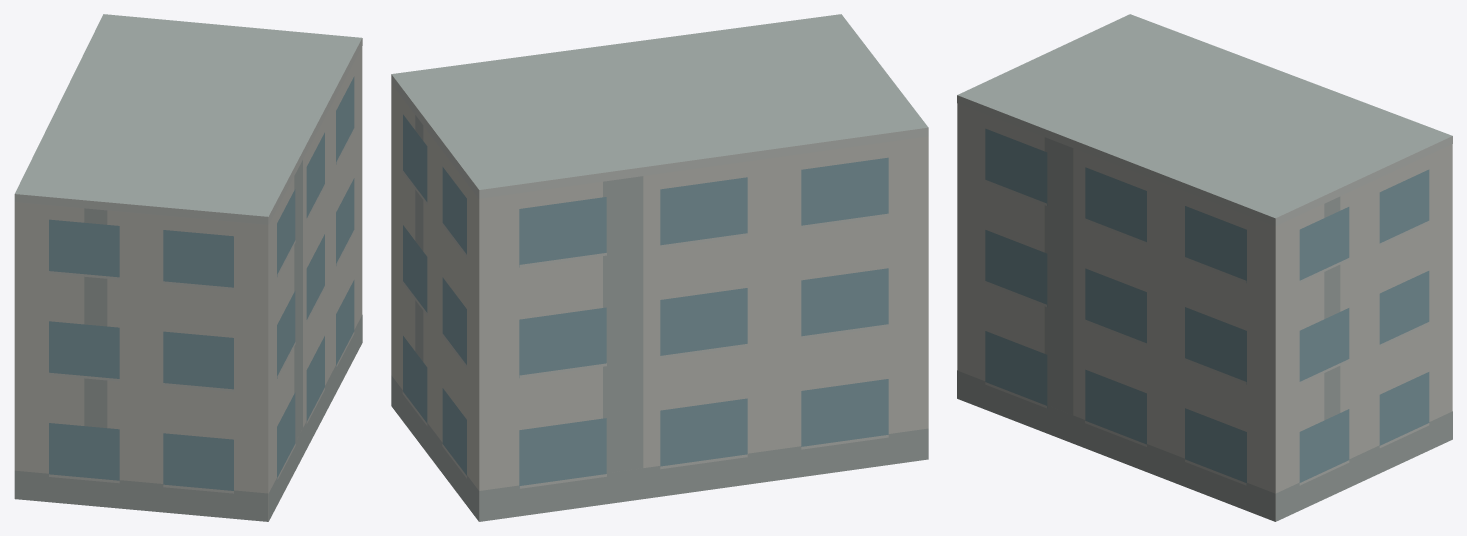
File: survey-upis-32832053.glb
The picture shows the model from 3 angles, left to right: view 1: azimuth 30°, elevation 25°; view 2: azimuth 150°, elevation 25°; view 3: azimuth 270°, elevation 25°; orthographic projection. The views are drawn at different scales.
Parts seen in each view (by area): view 1: survey-upis-32832053.tmp; view 2: survey-upis-32832053.tmp; view 3: survey-upis-32832053.tmp.
Part boxes in pixels (<box>): survey-upis-32832053.tmp: <box>14,14,362,521</box>; survey-upis-32832053.tmp: <box>391,14,928,521</box>; survey-upis-32832053.tmp: <box>957,14,1452,521</box>.
Size of the model in its own units: 13.22 by 9.15 by 13.55.
